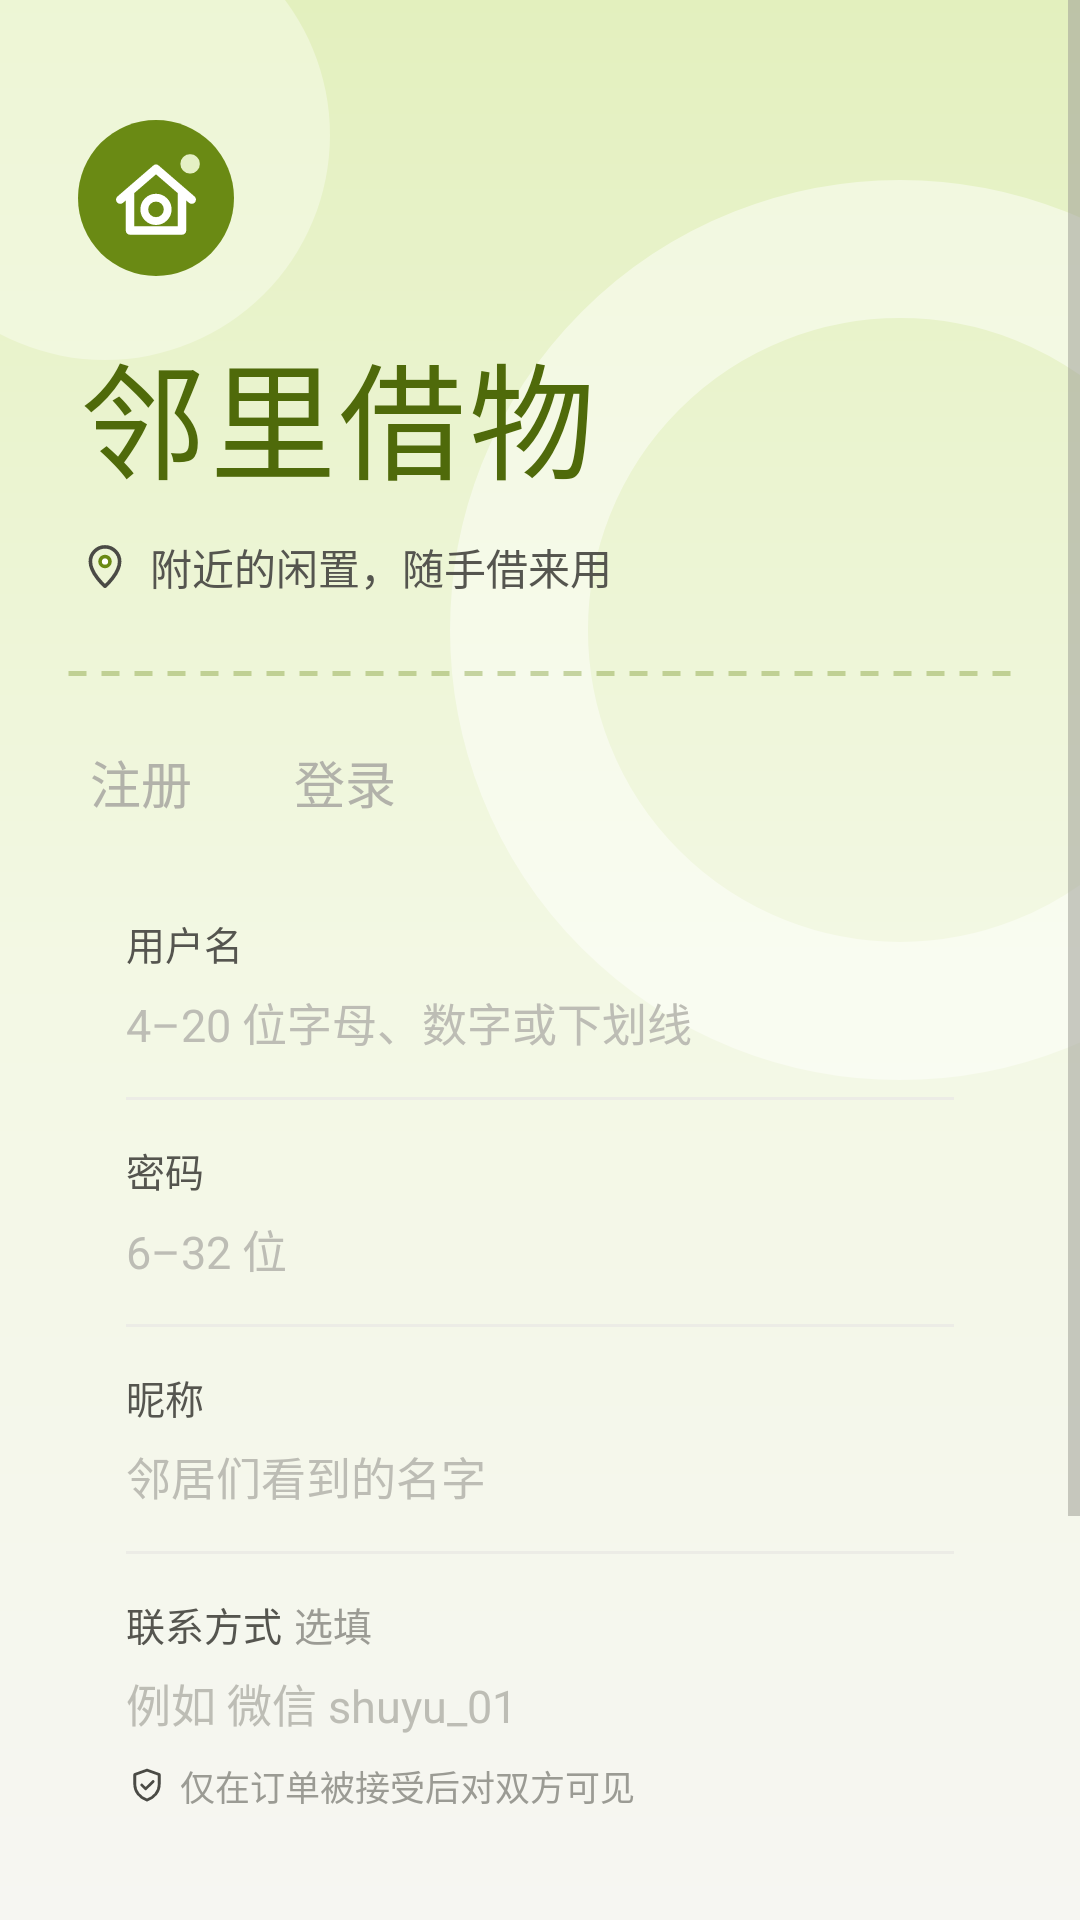

Where to tap for icons on this 1080x1920 app screen, as point (x, y):
pin: point (105, 566)
shield: point (147, 1785)
